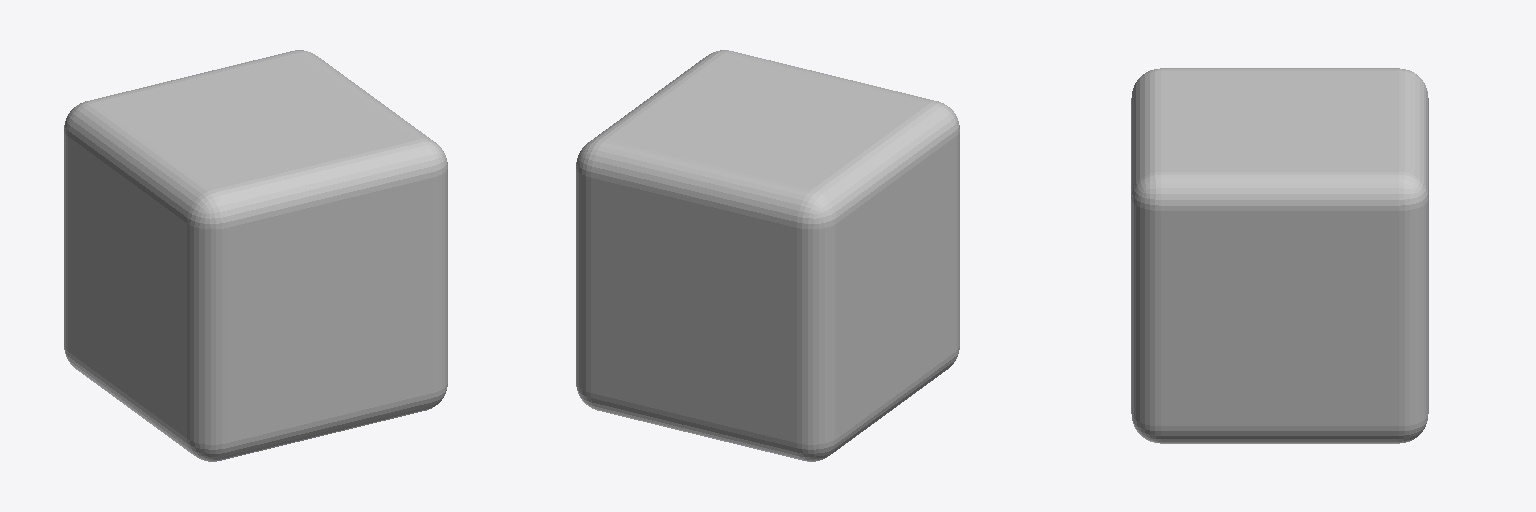
File: ghostBlock.obj
3 views of the same model, side by side, from view 1: azimuth 30°, elevation 25°; view 2: azimuth 150°, elevation 25°; view 3: azimuth 270°, elevation 25° (orthographic).
Visible parts, largest first — view 1: Cube; view 2: Cube; view 3: Cube.
Boxes of the visible parts, x1,y1,x2,y2 form: Cube: [64, 50, 447, 461]; Cube: [576, 50, 959, 461]; Cube: [1131, 68, 1428, 443].
Bounding box in the file's own units: 2 × 2 × 2.